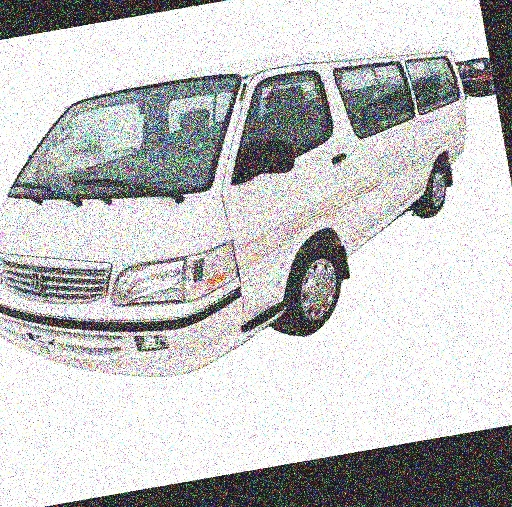van: (0, 4, 512, 394)
